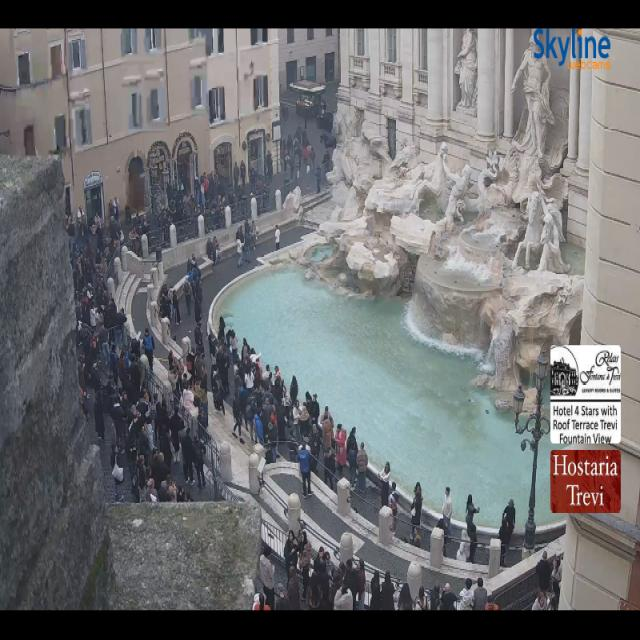person: (78, 330, 148, 390), (236, 359, 287, 439), (128, 391, 171, 468), (119, 391, 158, 458), (95, 253, 126, 337), (122, 394, 157, 465), (122, 394, 153, 470), (108, 379, 145, 440), (127, 399, 158, 470), (250, 368, 276, 447), (187, 324, 207, 422), (112, 346, 143, 409), (242, 348, 274, 407), (228, 331, 255, 395), (117, 341, 144, 402), (265, 365, 287, 438), (319, 551, 345, 610), (131, 409, 153, 477), (100, 298, 127, 350), (236, 355, 272, 394), (220, 330, 243, 390), (256, 360, 274, 421), (312, 547, 337, 590), (104, 325, 122, 384), (73, 258, 88, 324), (208, 329, 235, 365), (150, 394, 167, 451), (207, 172, 233, 209), (188, 172, 209, 215), (206, 170, 231, 206), (260, 546, 274, 610), (314, 547, 335, 589), (194, 324, 207, 391), (158, 202, 177, 245), (328, 563, 345, 610), (181, 427, 195, 484), (249, 348, 268, 390), (299, 532, 311, 598), (169, 405, 183, 461), (318, 551, 331, 610), (267, 365, 285, 407), (233, 385, 246, 443), (111, 443, 124, 501), (329, 563, 345, 610), (344, 559, 359, 609), (285, 138, 299, 191), (216, 187, 247, 210), (212, 361, 225, 415), (298, 445, 311, 497), (240, 388, 253, 440), (159, 203, 175, 245), (290, 130, 307, 169), (347, 427, 358, 487), (536, 551, 551, 593), (284, 531, 298, 575), (152, 453, 170, 487), (106, 223, 123, 259), (130, 353, 142, 403), (306, 573, 322, 610), (194, 439, 206, 488), (168, 351, 180, 399), (160, 423, 172, 470), (336, 423, 346, 478), (412, 483, 422, 536), (217, 189, 240, 212), (98, 315, 109, 363), (388, 483, 399, 531), (503, 500, 515, 544), (208, 329, 223, 364), (233, 386, 243, 438), (83, 244, 95, 287), (137, 390, 152, 424), (381, 571, 394, 610), (499, 520, 510, 566), (310, 430, 321, 475), (436, 519, 449, 557), (108, 218, 121, 256), (357, 443, 367, 492), (396, 583, 414, 610), (324, 447, 335, 491), (268, 414, 278, 462), (459, 578, 474, 610), (288, 567, 299, 610), (369, 571, 381, 610), (456, 529, 470, 562), (244, 220, 255, 262), (380, 461, 390, 507), (95, 391, 104, 442), (244, 346, 261, 373), (182, 373, 194, 411), (324, 550, 339, 580), (334, 585, 352, 610), (473, 578, 487, 610), (441, 584, 458, 610), (466, 494, 479, 528), (443, 487, 452, 536), (144, 328, 154, 372), (552, 556, 562, 599), (158, 285, 171, 318), (192, 264, 203, 303), (192, 321, 203, 359), (274, 365, 285, 403), (196, 174, 209, 206), (144, 414, 155, 451), (293, 139, 303, 179), (502, 500, 515, 530), (292, 400, 301, 442), (74, 253, 84, 290), (110, 344, 119, 385), (358, 558, 365, 610), (276, 584, 290, 610), (299, 405, 310, 438), (308, 394, 319, 426), (313, 546, 326, 572), (81, 297, 92, 327), (248, 220, 258, 253), (137, 454, 146, 490), (243, 217, 250, 263), (531, 590, 547, 610), (188, 254, 199, 283), (132, 463, 140, 502), (469, 524, 477, 563), (254, 413, 264, 444), (252, 593, 270, 610), (252, 594, 271, 610), (323, 419, 333, 449), (96, 216, 104, 253), (320, 134, 336, 152), (415, 586, 427, 610), (194, 324, 203, 355), (146, 479, 158, 502), (128, 228, 139, 253), (430, 585, 441, 610), (289, 375, 298, 405), (184, 278, 191, 316), (172, 291, 180, 324), (323, 150, 331, 182), (195, 324, 203, 356), (177, 485, 192, 502), (210, 237, 219, 265), (244, 368, 254, 393), (76, 206, 84, 237), (320, 406, 333, 425), (140, 214, 151, 236), (158, 480, 169, 502), (230, 331, 237, 364), (206, 238, 215, 263), (485, 594, 499, 610), (265, 152, 272, 183), (90, 302, 97, 332), (308, 143, 315, 173), (213, 237, 221, 263), (236, 238, 243, 267), (249, 166, 256, 195), (411, 528, 421, 548), (168, 352, 179, 369), (218, 316, 225, 342), (108, 200, 115, 226), (233, 162, 239, 191), (304, 392, 311, 416), (128, 341, 139, 356), (240, 161, 246, 188), (284, 152, 291, 175), (236, 224, 244, 244), (548, 594, 558, 610), (289, 156, 295, 181), (287, 134, 294, 155), (301, 127, 308, 147), (316, 165, 321, 193), (96, 211, 104, 228), (275, 225, 280, 250), (303, 145, 308, 170), (114, 197, 119, 221), (282, 105, 288, 122), (179, 179, 184, 197), (321, 99, 326, 115), (304, 109, 307, 133), (139, 229, 145, 235)
